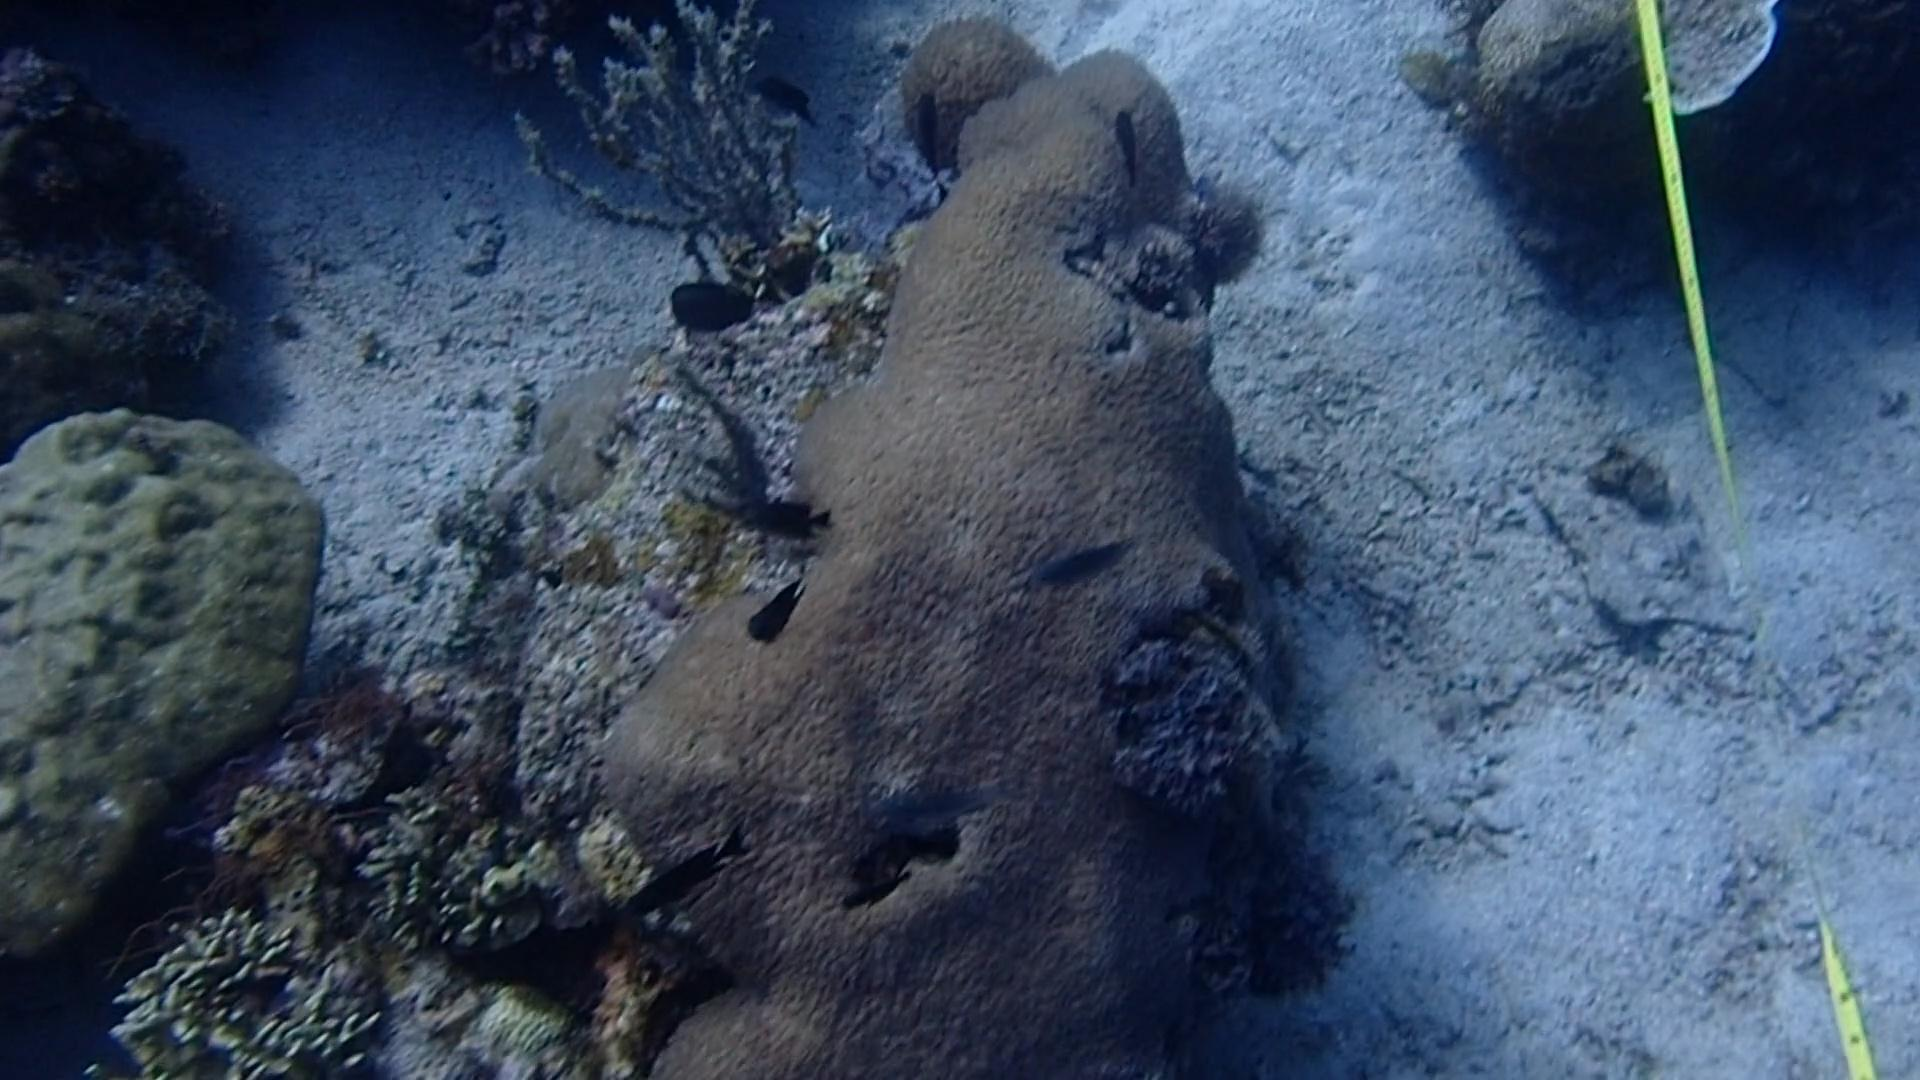Dark Fish: (621, 816, 735, 922), (725, 476, 848, 553), (887, 82, 968, 195), (732, 566, 819, 650), (1091, 98, 1156, 199), (736, 55, 812, 128)
Light Fish: (876, 764, 1025, 839), (998, 522, 1138, 593)
